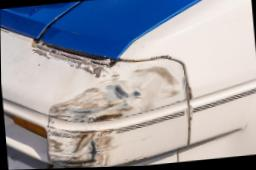Bumper: (1, 38, 216, 170)
